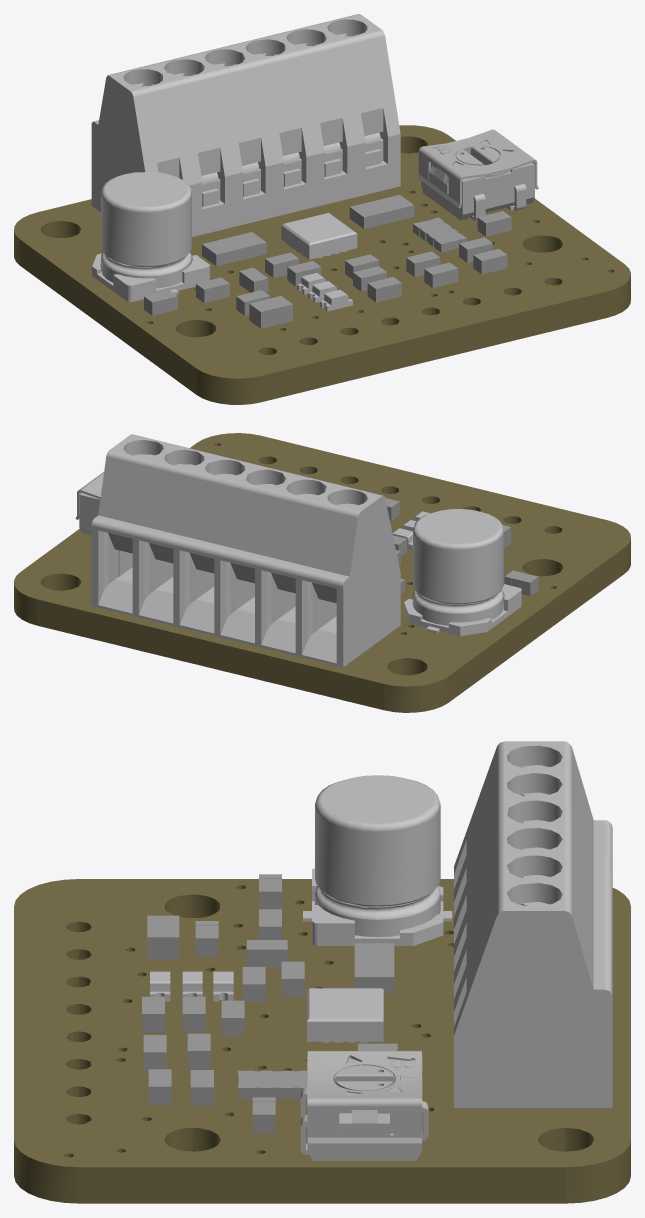
The model's file is ada-6353.glb.
3 renders of one model, top to bottom at view 1: azimuth 30°, elevation 25°; view 2: azimuth 150°, elevation 25°; view 3: azimuth 270°, elevation 25°, orthographic. The views are drawn at different scales.
Visible parts, largest first — view 1: 0.16666666666666666_0.16666666666666666_0.08333333333333333_, 0.5833333333333334_0.5833333333333334_0.5833333333333334_0.8, 0.3333333333333333_0.3333333333333333_0.3333333333333333_0, 0.5_0.5_0.5_0.85; view 2: 0.5833333333333334_0.5833333333333334_0.5833333333333334_0.8, 0.16666666666666666_0.16666666666666666_0.08333333333333333_, 0.3333333333333333_0.3333333333333333_0.3333333333333333_0, 0.5_0.5_0.5_0.85; view 3: 0.16666666666666666_0.16666666666666666_0.08333333333333333_, 0.5833333333333334_0.5833333333333334_0.5833333333333334_0.8, 0.3333333333333333_0.3333333333333333_0.3333333333333333_0, 0.5_0.5_0.5_0.85.
Part boxes in pixels (<box>): 0.16666666666666666_0.16666666666666666_0.08333333333333333_: <box>14,125,630,404</box>; 0.5833333333333334_0.5833333333333334_0.5833333333333334_0.8: <box>91,14,400,311</box>; 0.3333333333333333_0.3333333333333333_0.3333333333333333_0: <box>144,194,511,328</box>; 0.5_0.5_0.5_0.85: <box>417,129,538,220</box>; 0.5833333333333334_0.5833333333333334_0.5833333333333334_0.8: <box>91,434,521,701</box>; 0.16666666666666666_0.16666666666666666_0.08333333333333333_: <box>14,433,630,712</box>; 0.3333333333333333_0.3333333333333333_0.3333333333333333_0: <box>385,498,538,595</box>; 0.5_0.5_0.5_0.85: <box>75,472,103,535</box>; 0.16666666666666666_0.16666666666666666_0.08333333333333333_: <box>14,879,630,1203</box>; 0.5833333333333334_0.5833333333333334_0.5833333333333334_0.8: <box>150,741,612,1107</box>; 0.3333333333333333_0.3333333333333333_0.3333333333333333_0: <box>142,874,397,1133</box>; 0.5_0.5_0.5_0.85: <box>300,1050,428,1160</box>.
Size of the model in its own units: 2.67 by 1.2 by 2.41.
